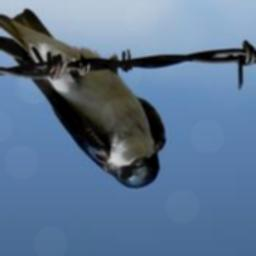Swallow: (0, 7, 168, 189)
